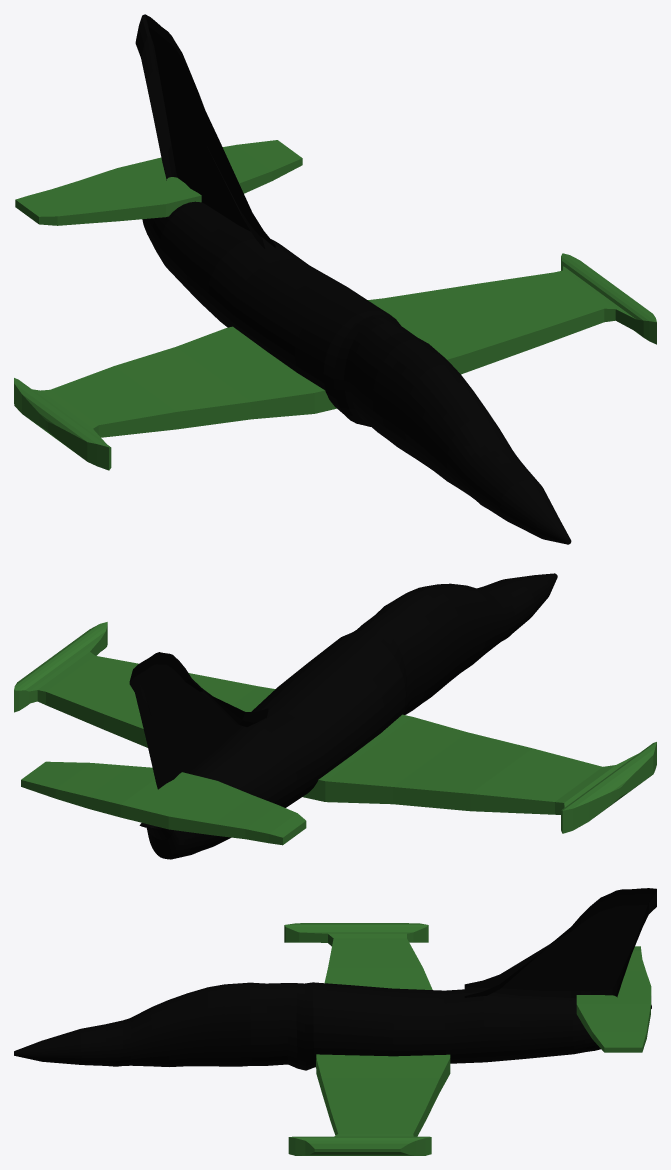
3 renders of one model, top to bottom at view 1: azimuth 30°, elevation 25°; view 2: azimuth 150°, elevation 25°; view 3: azimuth 270°, elevation 25°, orthographic. The views are drawn at different scales.
Parts seen in each view (by area): view 1: Cylinder, Cube.002, Cube, Cube.001; view 2: Cylinder, Cube.002, Cube.001, Cube; view 3: Cylinder, Cube.002, Cube, Cube.001.
Part boxes in pixels (box(x1,y1,x2,y2)): Cylinder: box(142, 201, 571, 544); Cube.002: box(14, 253, 656, 470); Cube: box(135, 14, 275, 248); Cube.001: box(15, 140, 302, 225); Cylinder: box(139, 573, 557, 859); Cube.002: box(14, 622, 656, 833); Cube.001: box(21, 761, 306, 845); Cube: box(129, 652, 268, 789); Cylinder: box(14, 982, 651, 1070); Cube.002: box(284, 923, 450, 1155); Cube: box(464, 888, 656, 998); Cube.001: box(576, 946, 651, 1052).
Bounding box in the file's own units: 926 × 369 × 1183.
